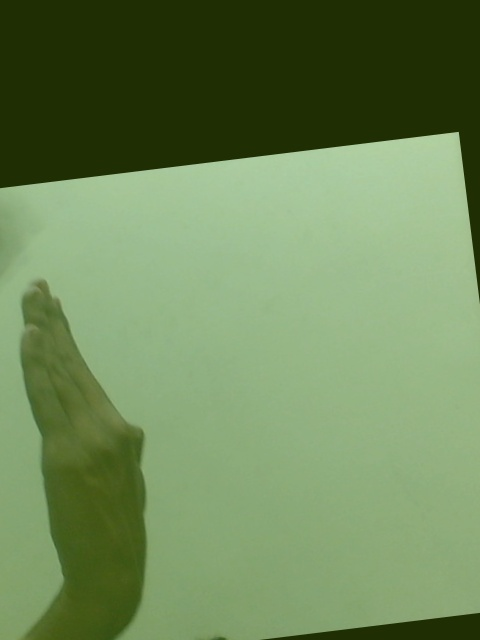hand: (13, 277, 155, 597)
